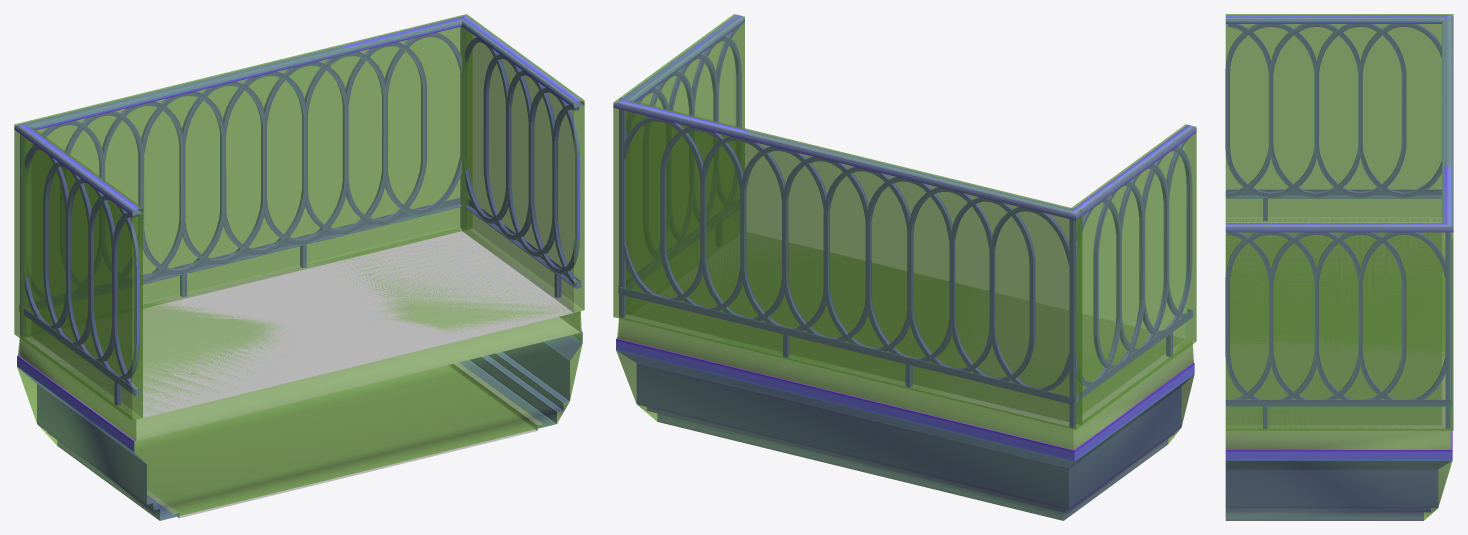
The model's file is F_Balcony_L_03.fbx.
3 renders of one model, left to right at view 1: azimuth 30°, elevation 25°; view 2: azimuth 150°, elevation 25°; view 3: azimuth 270°, elevation 25°, orthographic. The views are drawn at different scales.
Visible parts, largest first — view 1: F_Balcony_L_03_LOD0, F_Balcony_L_03_col_03, F_Balcony_L_03_col_01, F_Balcony_L_03_col_02, F_Balcony_L_03_col_04; view 2: F_Balcony_L_03_LOD0, F_Balcony_L_03_col_03, F_Balcony_L_03_col_01, F_Balcony_L_03_col_04, F_Balcony_L_03_col_02; view 3: F_Balcony_L_03_LOD0, F_Balcony_L_03_col_02, F_Balcony_L_03_col_04, F_Balcony_L_03_col_01, F_Balcony_L_03_col_03.
Boxes of the visible parts, x1,y1,x2,y2 form: F_Balcony_L_03_LOD0: [14, 15, 584, 520]; F_Balcony_L_03_col_03: [14, 14, 472, 338]; F_Balcony_L_03_col_01: [17, 240, 582, 520]; F_Balcony_L_03_col_02: [462, 18, 584, 312]; F_Balcony_L_03_col_04: [20, 126, 142, 420]; F_Balcony_L_03_LOD0: [613, 14, 1196, 520]; F_Balcony_L_03_col_03: [613, 98, 1082, 429]; F_Balcony_L_03_col_01: [616, 314, 1194, 520]; F_Balcony_L_03_col_04: [1071, 124, 1196, 424]; F_Balcony_L_03_col_02: [620, 14, 744, 314]; F_Balcony_L_03_LOD0: [1225, 15, 1453, 520]; F_Balcony_L_03_col_02: [1225, 222, 1441, 430]; F_Balcony_L_03_col_04: [1225, 14, 1441, 221]; F_Balcony_L_03_col_01: [1225, 219, 1452, 520]; F_Balcony_L_03_col_03: [1442, 14, 1453, 430].
Size of what is drawn, in the model's own units: 221 by 149 by 100.
